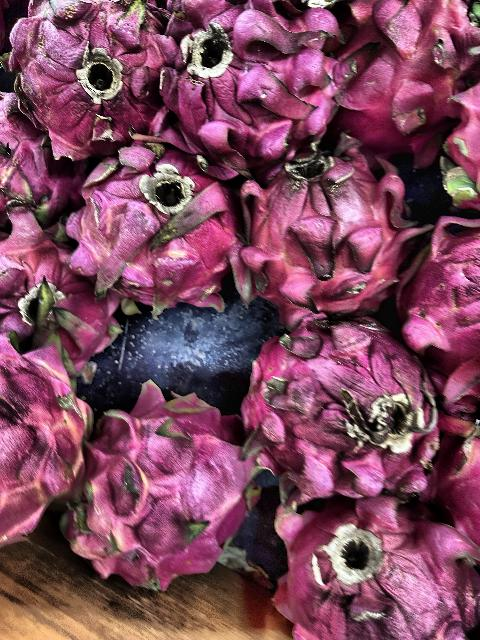buah-naga-matang: (75, 379, 264, 583), (238, 328, 454, 490), (270, 492, 480, 640), (230, 121, 400, 301), (153, 0, 321, 154), (72, 145, 234, 295), (5, 1, 162, 138), (326, 0, 474, 142), (0, 332, 92, 532), (0, 208, 122, 358), (404, 211, 480, 403), (0, 88, 88, 214)
